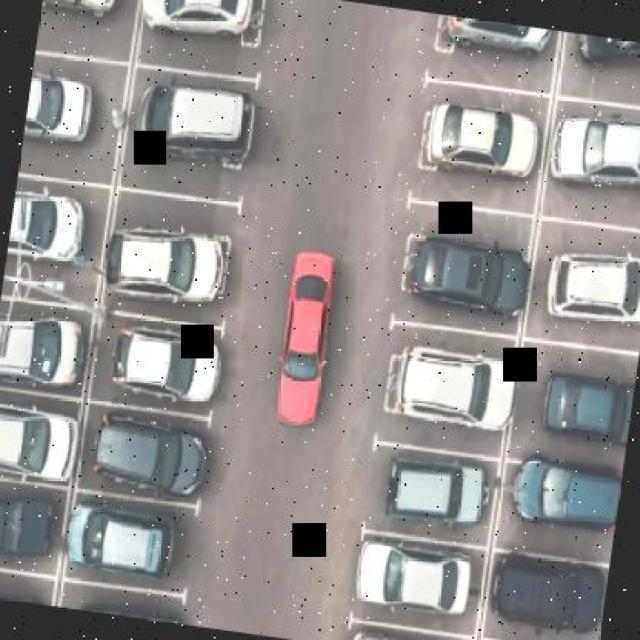car: (268, 222, 350, 421), (500, 453, 622, 559), (116, 306, 227, 417), (138, 64, 252, 170), (131, 202, 240, 302), (378, 346, 520, 420), (353, 539, 476, 621), (487, 550, 605, 632), (381, 440, 494, 525), (73, 504, 192, 581), (529, 353, 637, 435), (86, 420, 216, 488), (400, 232, 526, 298), (541, 247, 640, 327), (554, 98, 640, 186), (22, 61, 107, 150), (5, 194, 90, 271), (0, 303, 77, 382), (418, 118, 540, 166), (0, 408, 85, 470), (447, 15, 553, 63), (0, 483, 55, 560), (65, 590, 181, 624), (146, 0, 258, 35), (574, 32, 640, 74), (39, 0, 124, 29), (0, 582, 49, 604), (356, 631, 458, 640)
